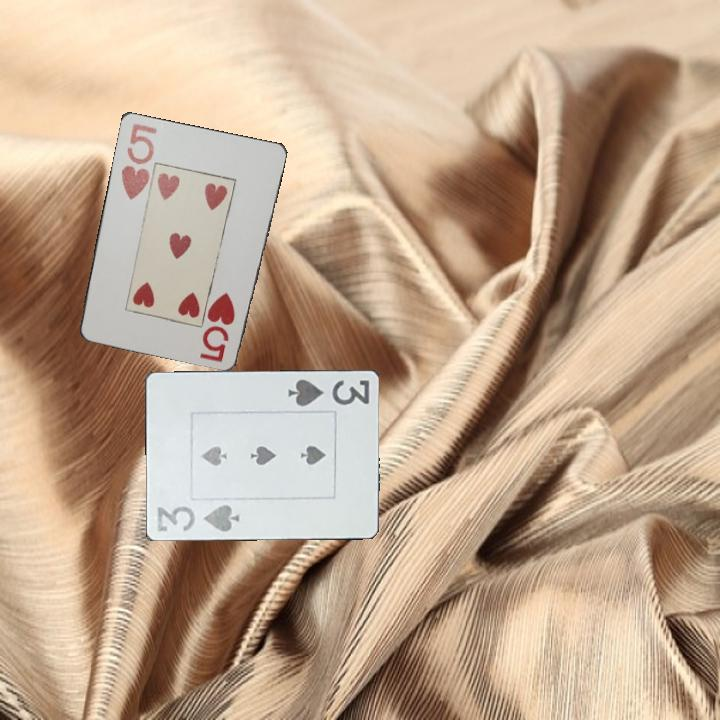3s: (151, 501, 242, 535), (284, 376, 372, 410)
5h: (117, 120, 160, 202), (201, 289, 238, 364)
